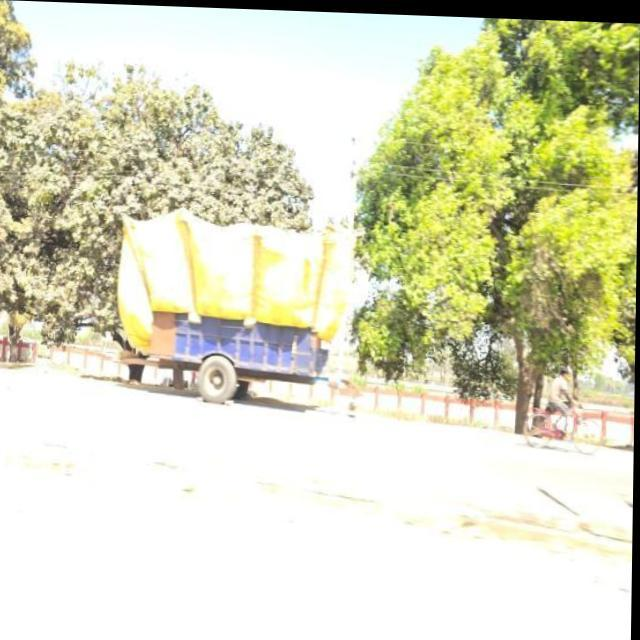covered: (122, 208, 340, 409)
